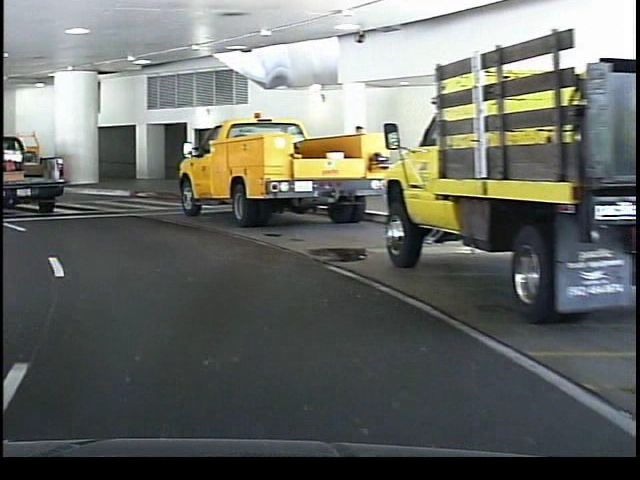person: (345, 119, 371, 203)
